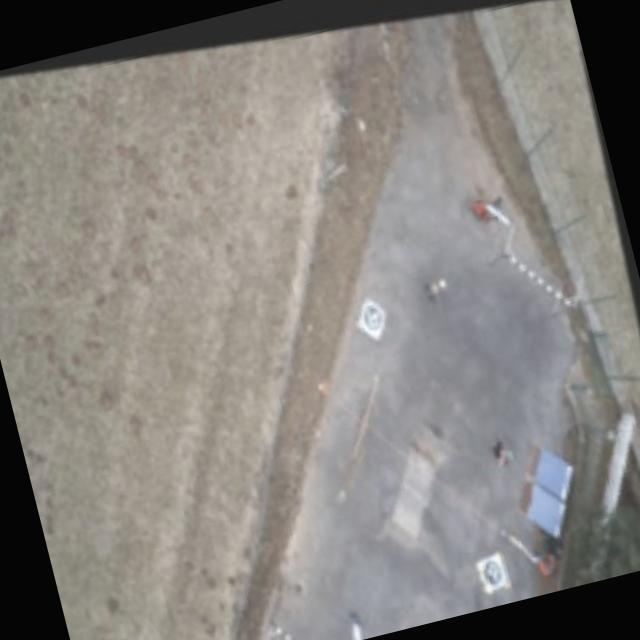Person: (410, 258, 456, 298), (342, 595, 378, 640), (487, 421, 523, 465)
